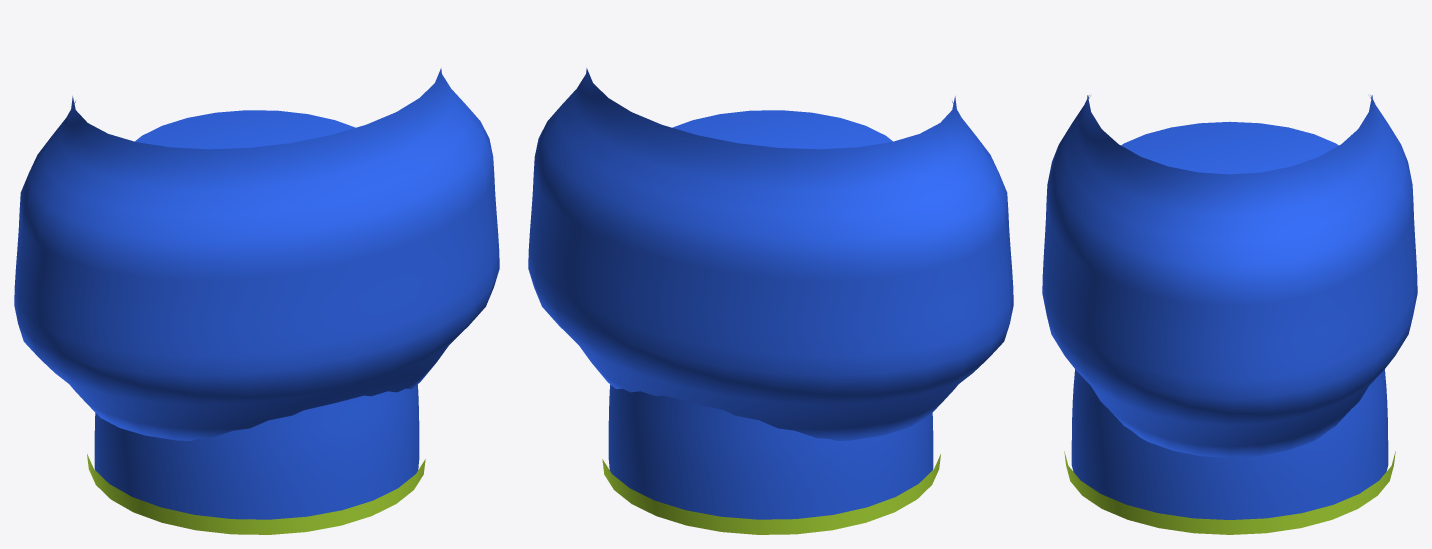
File: bottom_shorts_female.glb
3 views of the same model, side by side, from view 1: azimuth 30°, elevation 25°; view 2: azimuth 150°, elevation 25°; view 3: azimuth 270°, elevation 25° (orthographic). The views are drawn at different scales.
Visible parts, largest first — view 1: pants, pant_leg, hem; view 2: pants, pant_leg, hem; view 3: pants, pant_leg, hem.
Part boxes in pixels (left/top/right/bottom): pants: left=14, top=68, right=499, bottom=440; pant_leg: left=94, top=110, right=419, bottom=519; hem: left=87, top=454, right=425, bottom=534; pants: left=528, top=68, right=1013, bottom=440; pant_leg: left=608, top=110, right=933, bottom=519; hem: left=602, top=454, right=940, bottom=534; pants: left=1042, top=95, right=1417, bottom=457; pant_leg: left=1071, top=121, right=1388, bottom=519; hem: left=1064, top=451, right=1395, bottom=534.
Bounding box in the file's own units: 0.348 × 0.285 × 0.261.
